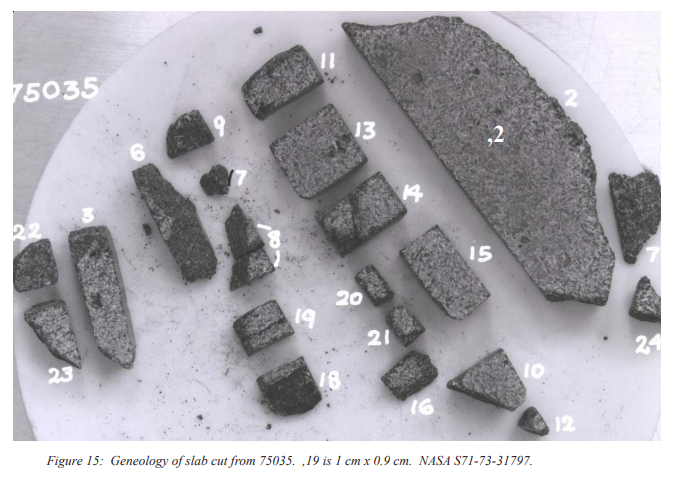Basalt: (168, 77, 545, 443), (338, 11, 636, 317), (20, 227, 155, 390)
